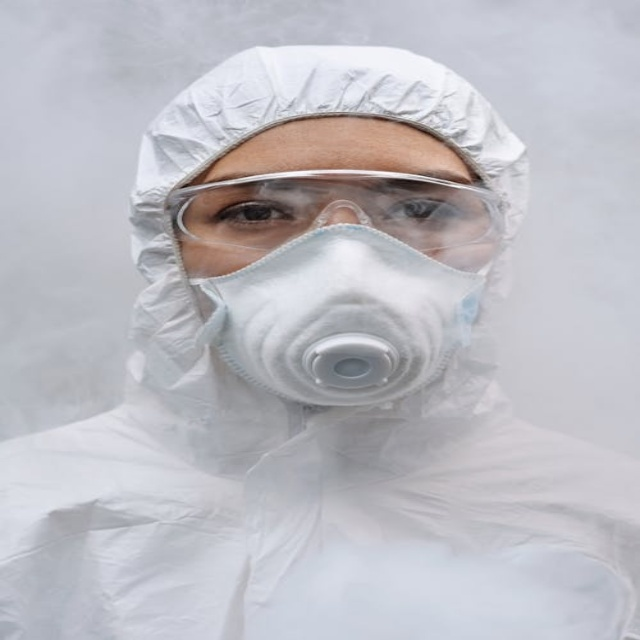Gafas: (166, 172, 509, 271)
Mascara: (184, 209, 490, 410)
